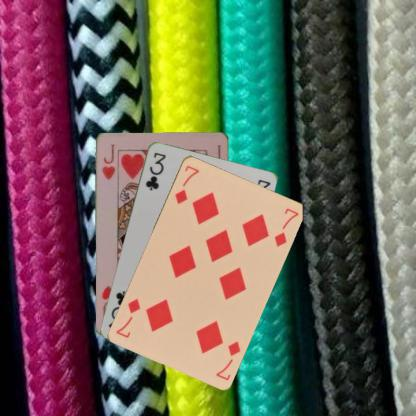3c: (143, 150, 167, 192)
7d: (213, 338, 242, 382), (172, 162, 201, 205)
Jh: (100, 141, 116, 181)
